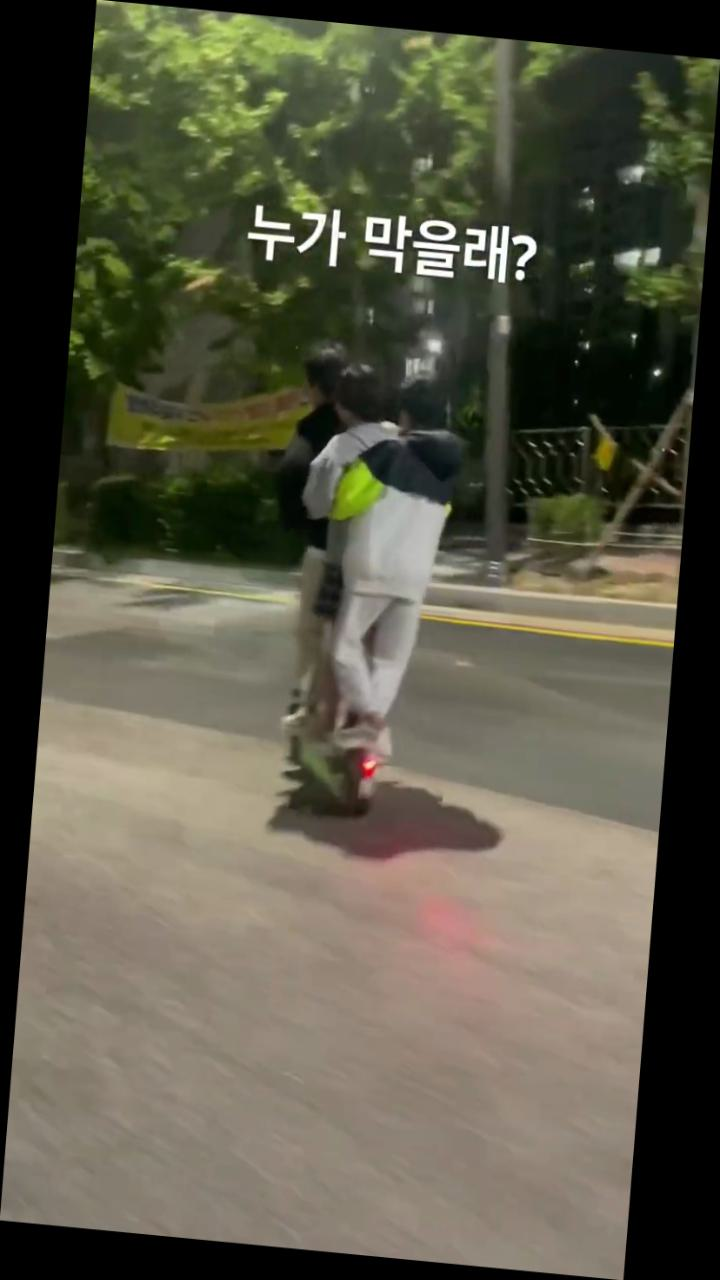multiple: (243, 337, 481, 834)
